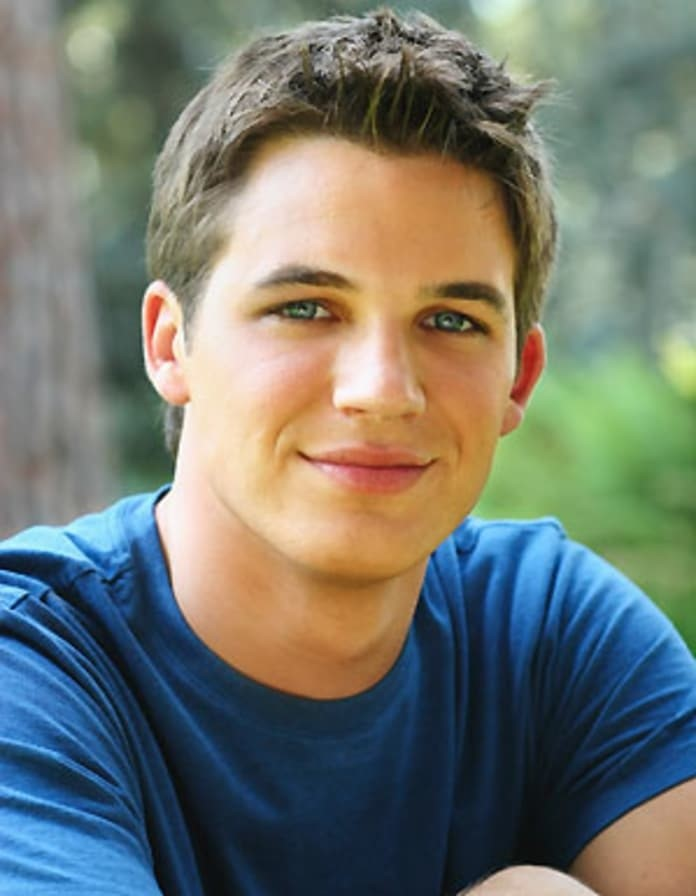face_no_mask: (139, 92, 548, 593)
